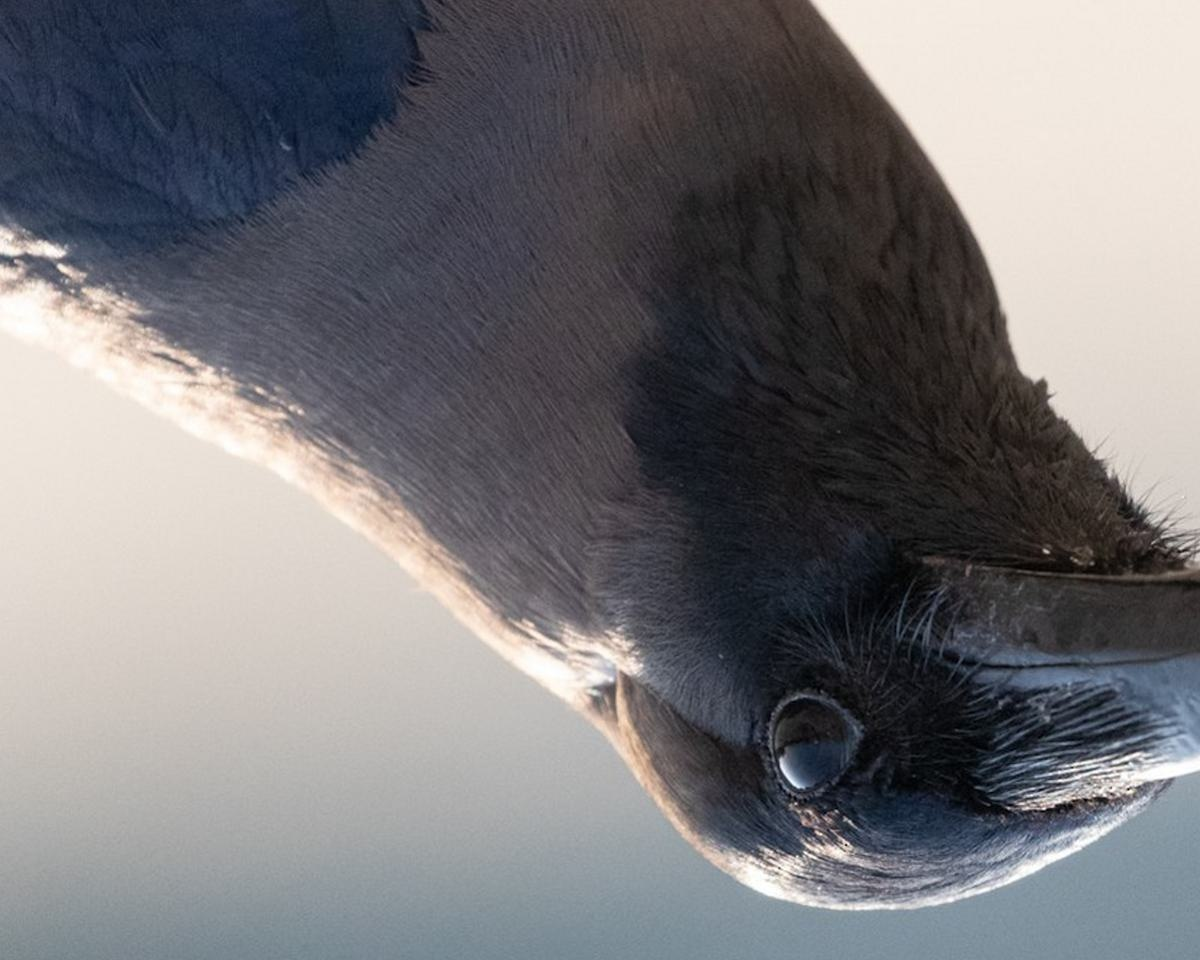crow: (1, 1, 1200, 916)
